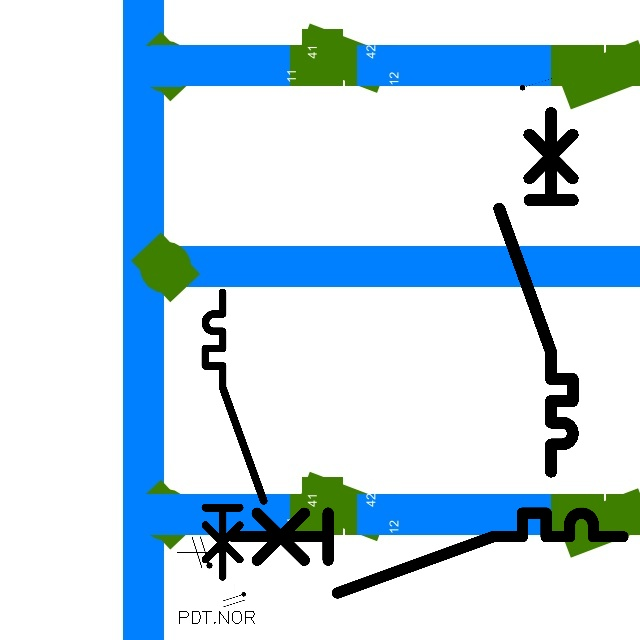interruptor_termomagnetico: (223, 503, 632, 603), (490, 103, 582, 481), (198, 285, 271, 584)
